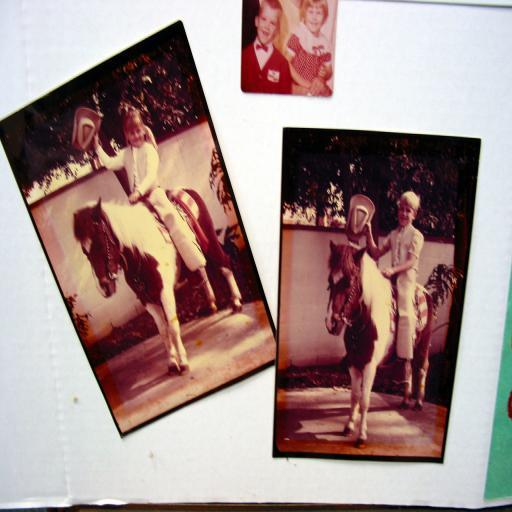horse: (72, 198, 243, 376), (323, 236, 434, 450)
